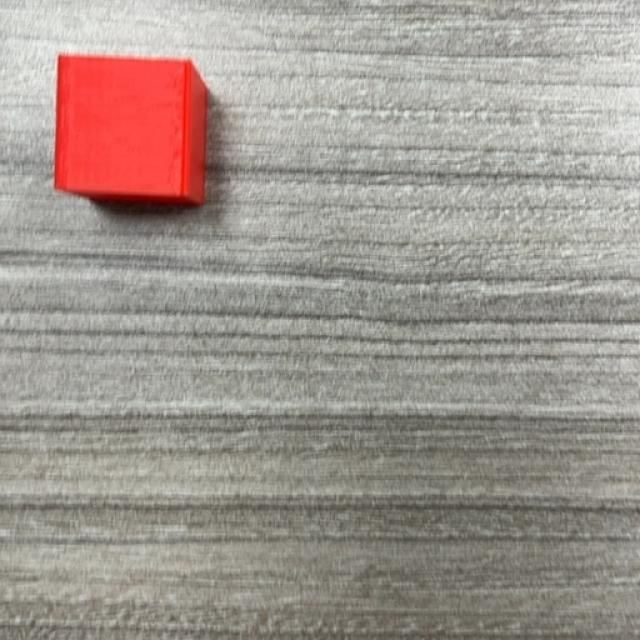Rojo: (52, 55, 212, 206)
